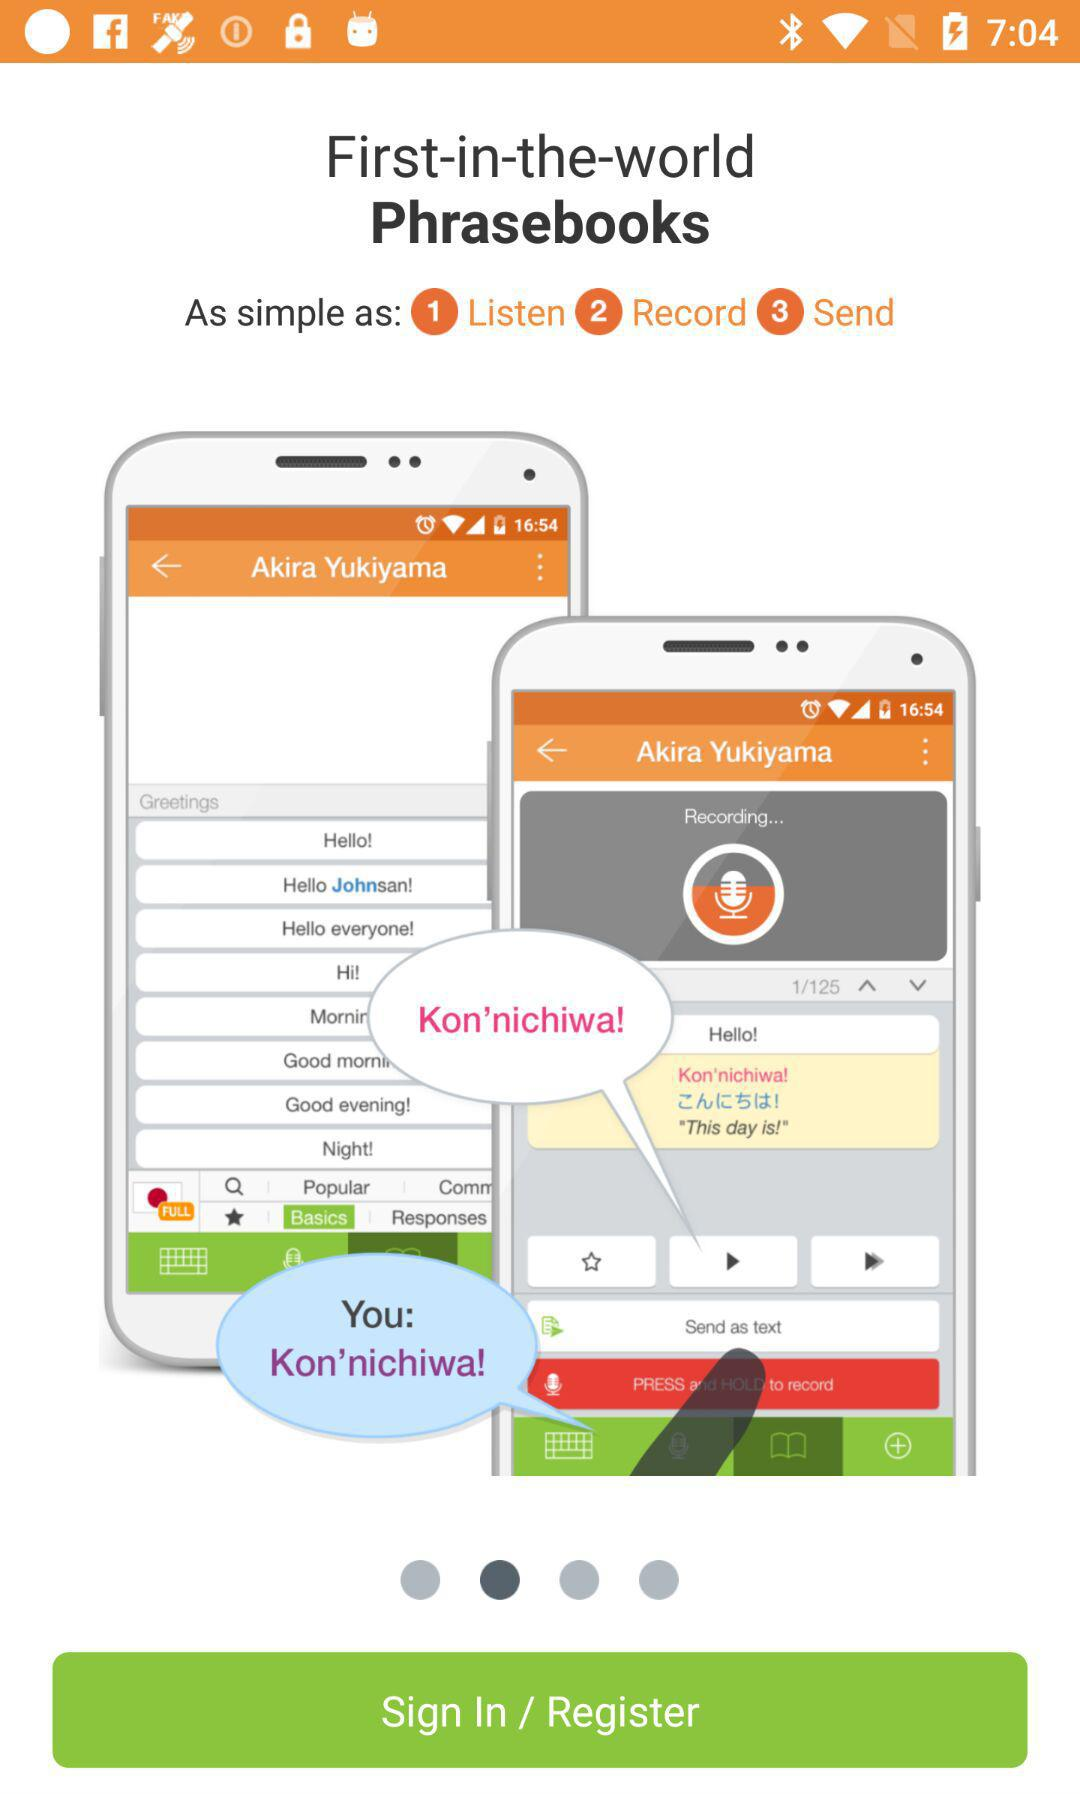Image: (99, 431, 983, 1477)
PageIndicator: (398, 1558, 682, 1601)
Text: (186, 287, 896, 338), (328, 132, 755, 179), (373, 199, 711, 247)
TextButton: (53, 1652, 1027, 1768)
UpperTaskBar: (1, 1, 1080, 64)
